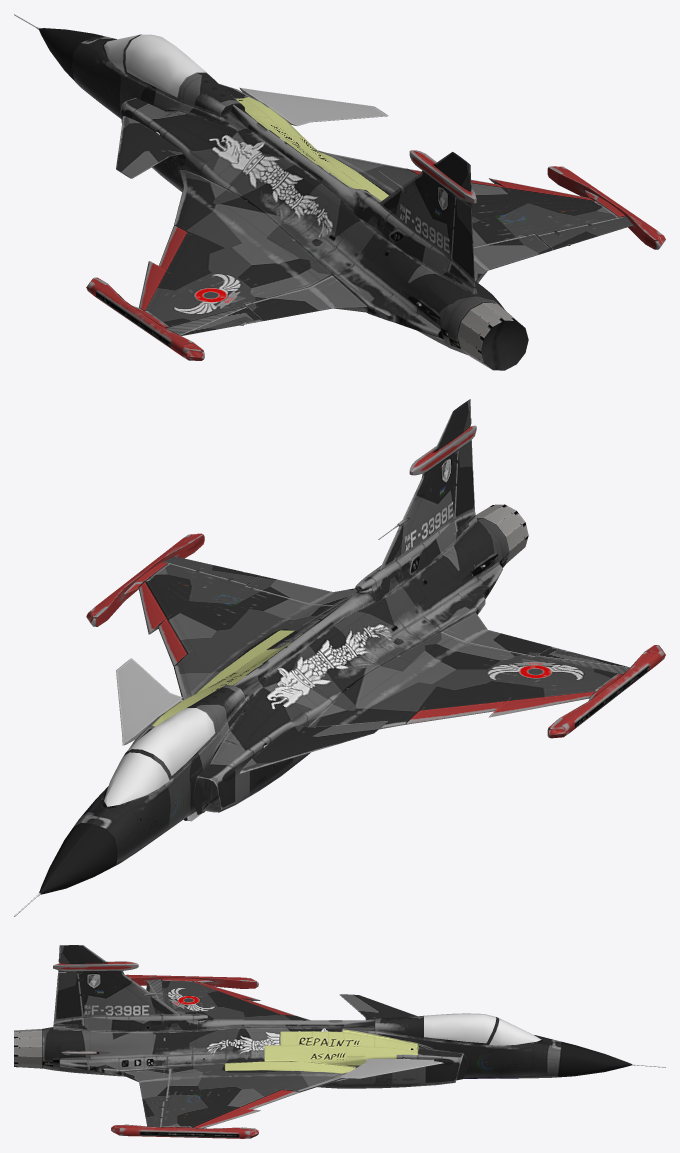
File: canvas_jas39.glb
3 renders of one model, top to bottom at view 1: azimuth 30°, elevation 25°; view 2: azimuth 150°, elevation 25°; view 3: azimuth 270°, elevation 25°, orthographic. The views are drawn at different scales.
Parts seen in each view (by area): view 1: saab_jas39e_2.010, saab_jas39e_2; view 2: saab_jas39e_2.010, saab_jas39e_2; view 3: saab_jas39e_2.010, saab_jas39e_2.
Part boxes in pixels (x1,y1,x2,y2): saab_jas39e_2.010: [14, 14, 665, 370]; saab_jas39e_2: [104, 34, 210, 97]; saab_jas39e_2.010: [14, 399, 665, 916]; saab_jas39e_2: [104, 708, 215, 806]; saab_jas39e_2.010: [14, 945, 665, 1138]; saab_jas39e_2: [424, 1013, 541, 1045].
Bounding box in the file's own units: 8.56 × 3.49 × 15.2.
2 materials, 1 textured.
